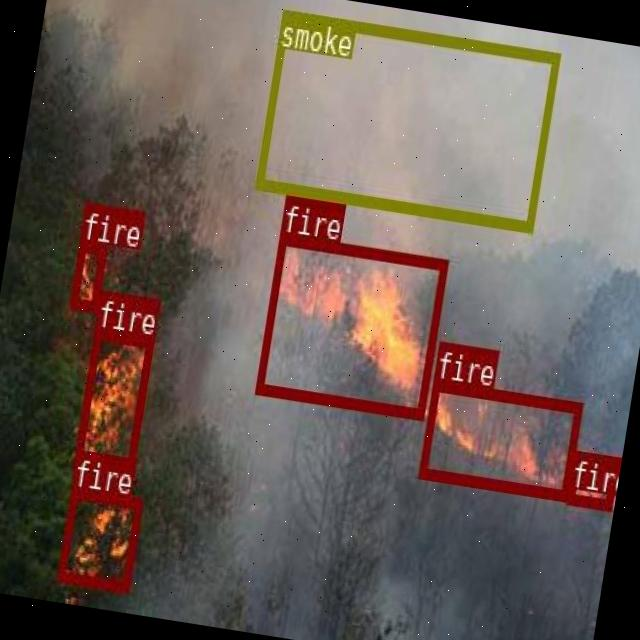fire: (255, 233, 447, 417), (418, 378, 582, 498), (73, 328, 154, 476), (56, 487, 142, 590), (567, 450, 619, 508), (70, 238, 106, 310)
smoke: (254, 9, 560, 230)
